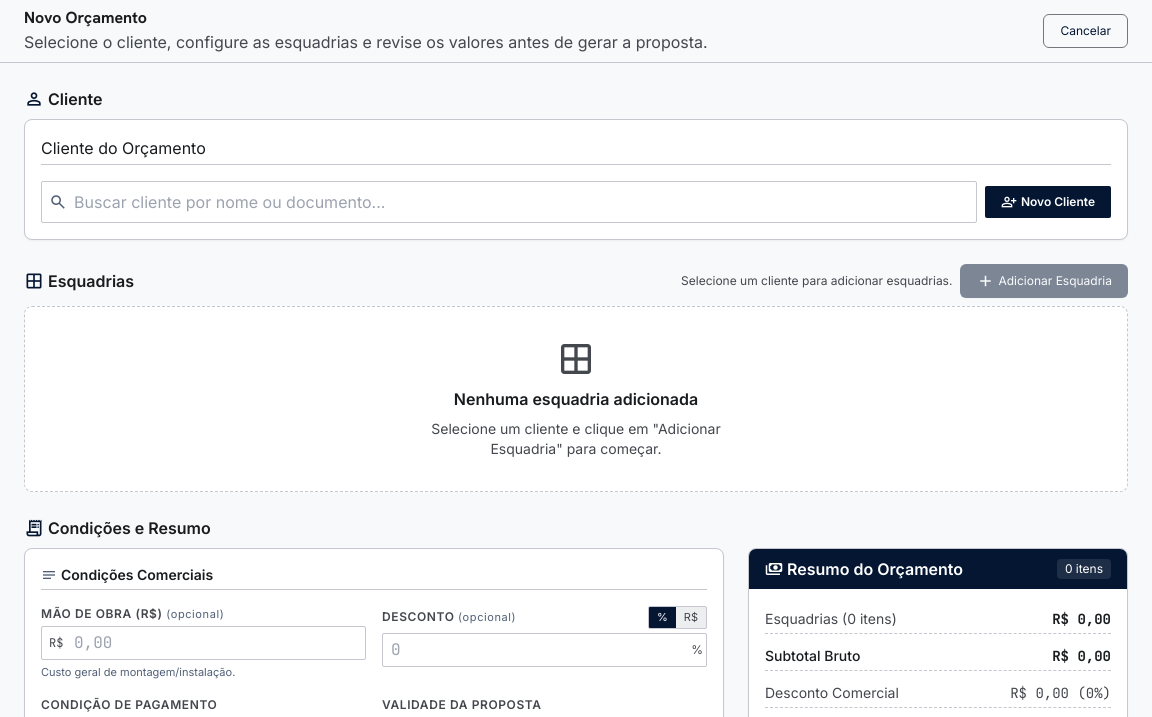
BudgetEditor — [US-09.33] Alinhamento com Seleção de Cliente e Notas › deve permitir desvincular o cliente selecionado através do botão de limpar
// Seleciona o cliente
Click the field with placeholder "Buscar cliente por nome ou documento..." at (509, 202), box [41,181,977,223]
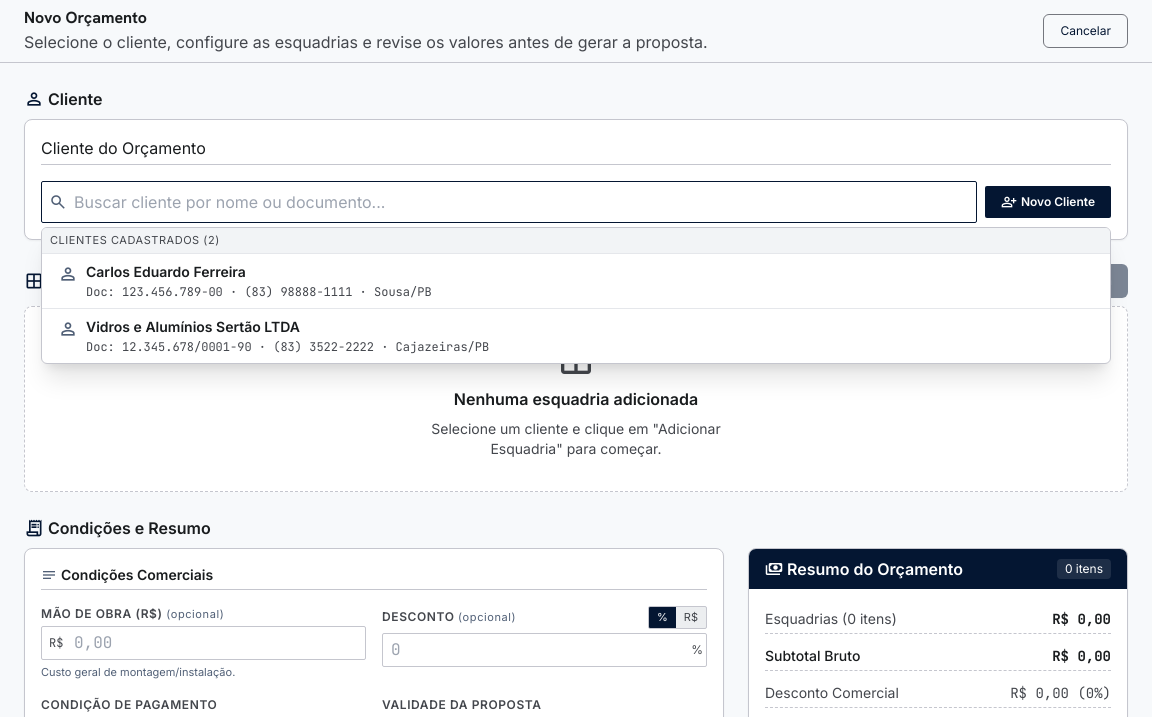
Click the text "Carlos Eduardo Ferreira" at (166, 271), box [86,262,246,280]
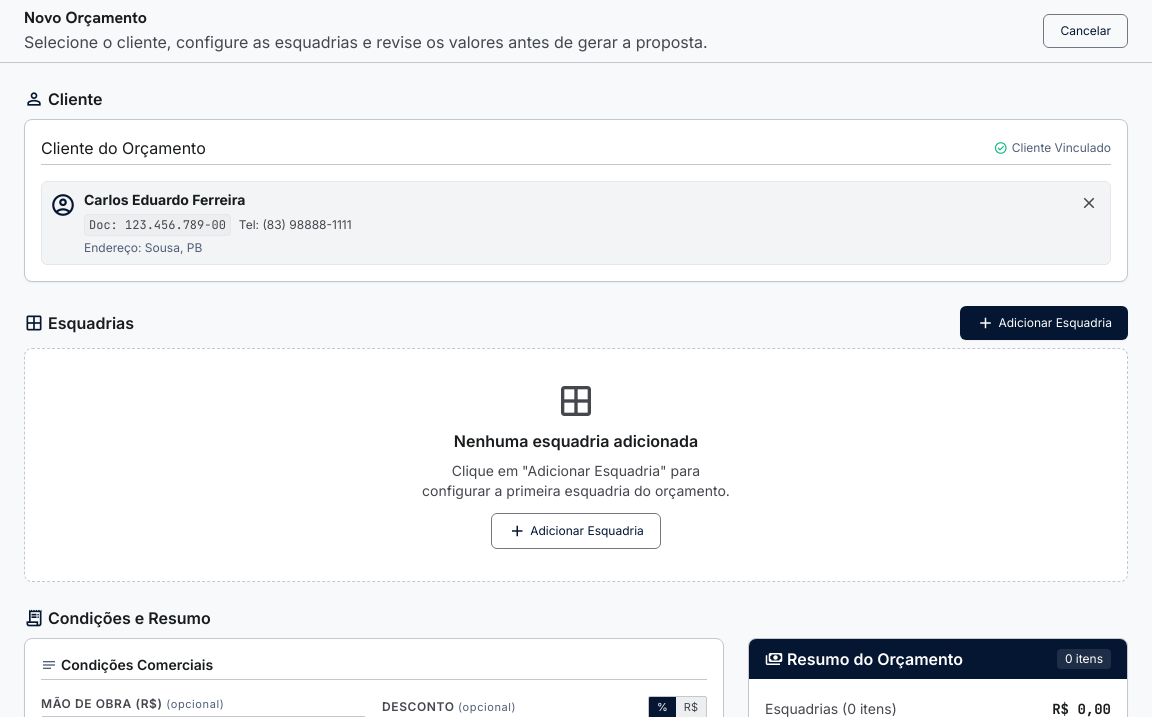
Now the text "Carlos Eduardo Ferreira" is shown, box [84,191,245,208]
// Clica no botão de trocar/remover cliente
Click the button named "Trocar cliente" at (1089, 206), box [1076,190,1102,222]
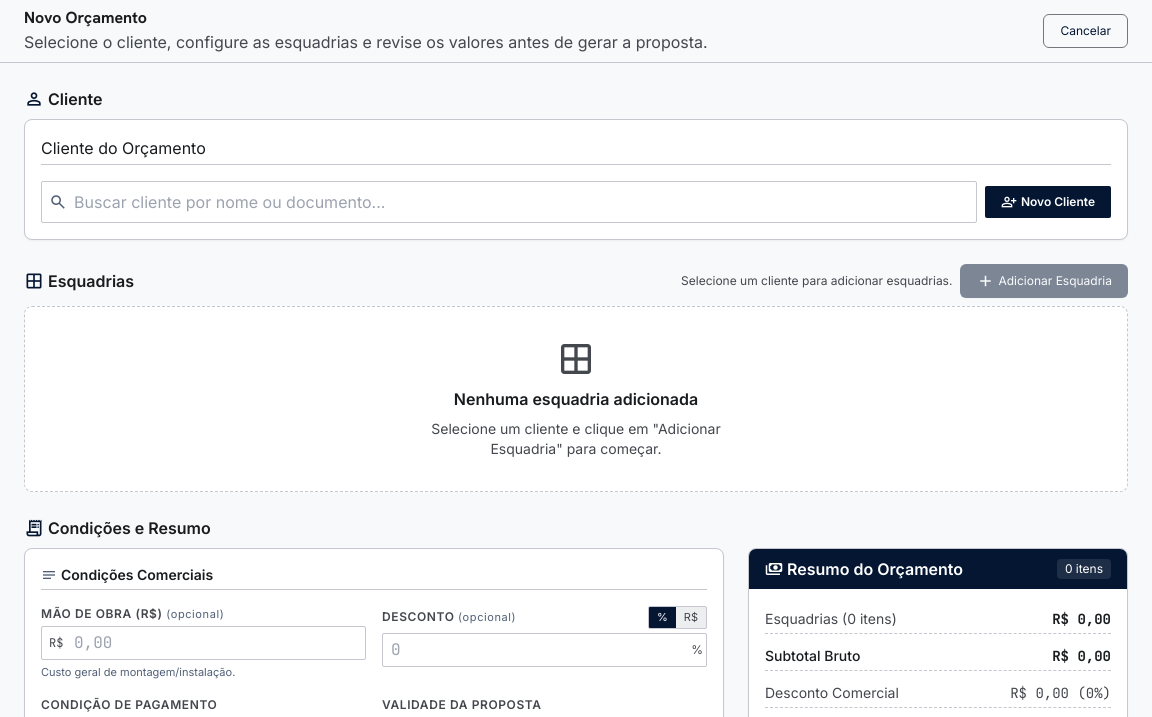
Now the field with placeholder "Buscar cliente por nome ou documento..." is shown, box [41,181,977,223]
Now the text "Endereço: Sousa, PB" is gone
Now the button "Adicionar Esquadria" is disabled, box [960,264,1128,298]
